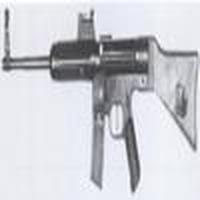gun: (3, 26, 200, 154)
